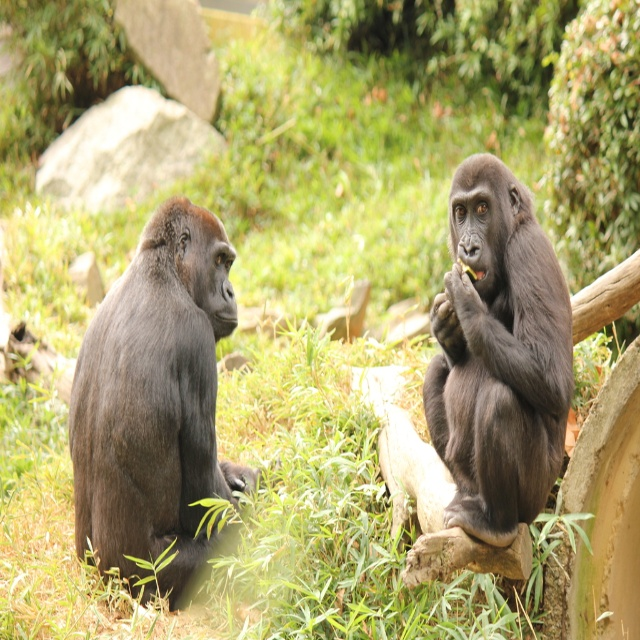Monkey: (68, 195, 262, 611), (422, 153, 574, 547)
